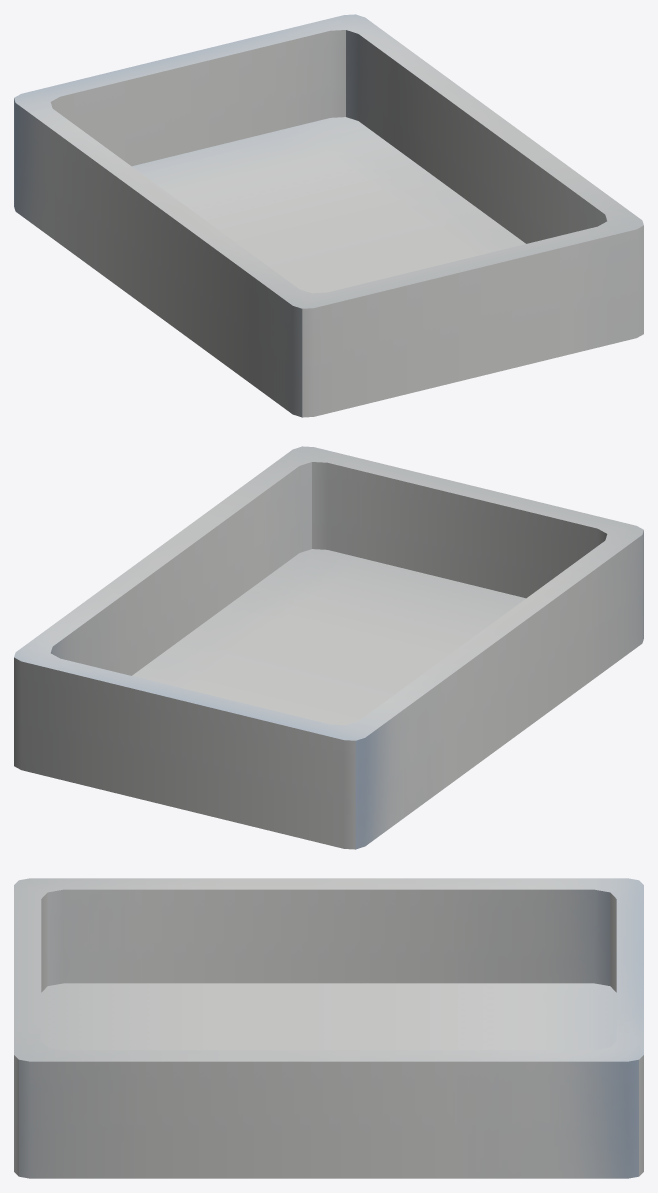
Rendered from Prop_pallete13b.fbx.
The picture shows the model from 3 angles, top to bottom: view 1: azimuth 30°, elevation 25°; view 2: azimuth 150°, elevation 25°; view 3: azimuth 270°, elevation 25°; orthographic projection. The views are drawn at different scales.
Parts seen in each view (by area): view 1: Prop_pallete13b; view 2: Prop_pallete13b; view 3: Prop_pallete13b.
Boxes of the visible parts, box(x1,y1,x2,y2) form: Prop_pallete13b: box(14, 14, 643, 417); Prop_pallete13b: box(14, 446, 643, 849); Prop_pallete13b: box(14, 878, 643, 1178).
Size of the model in its own units: 0.553 by 0.1644 by 0.8019.
